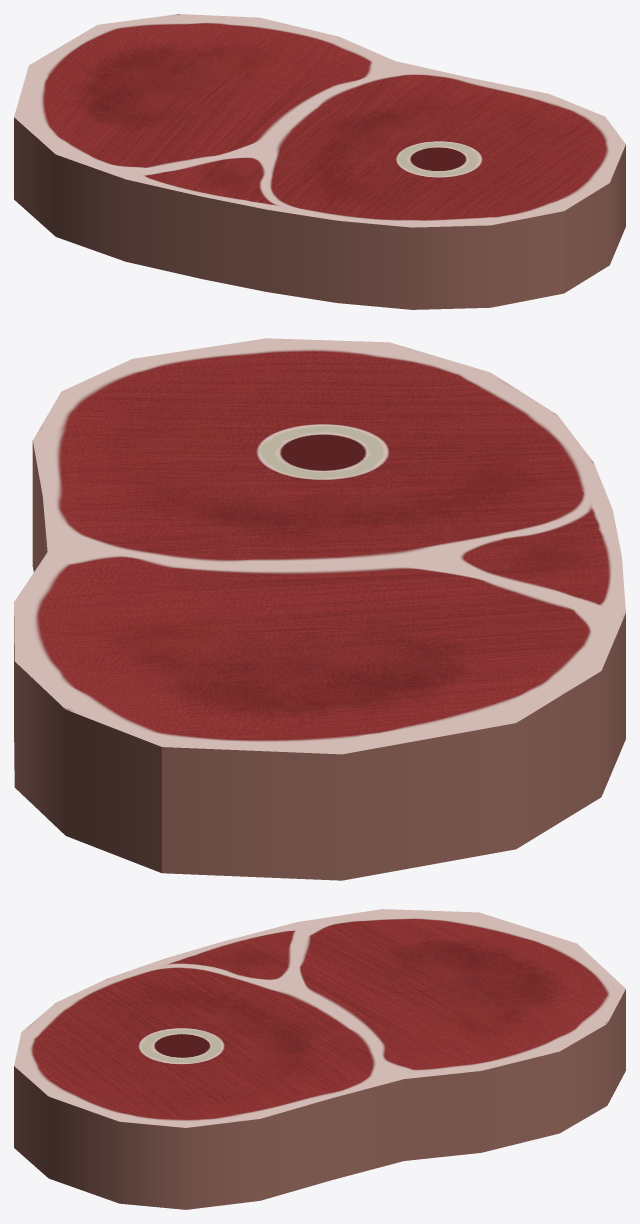
File: meat-patty.glb
3 views of the same model, one above another, from view 1: azimuth 30°, elevation 25°; view 2: azimuth 150°, elevation 25°; view 3: azimuth 270°, elevation 25° (orthographic). The views are drawn at different scales.
Size of the model in its own units: 1.04 by 0.1807 by 1.22.
Materials: 2 (2 with a texture image).
